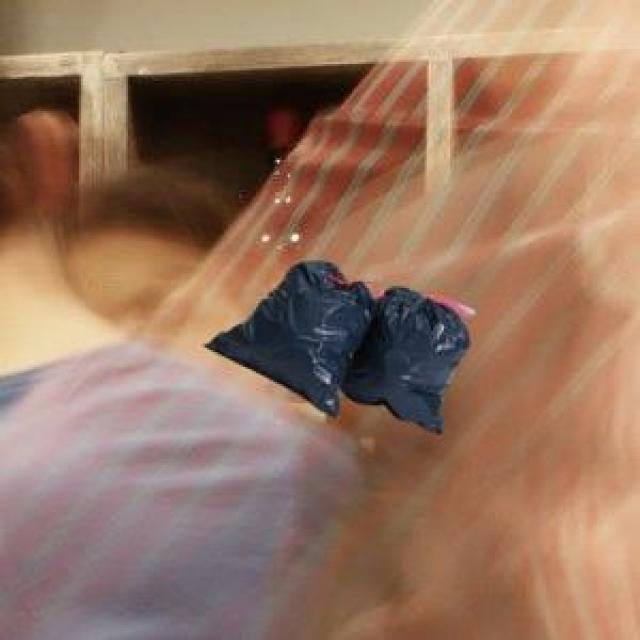Vinyl: (206, 262, 470, 432)
